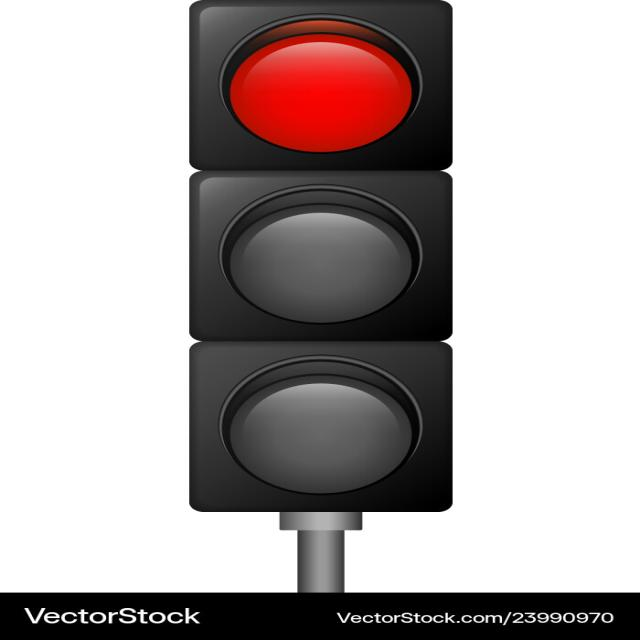red: (236, 26, 422, 146)
